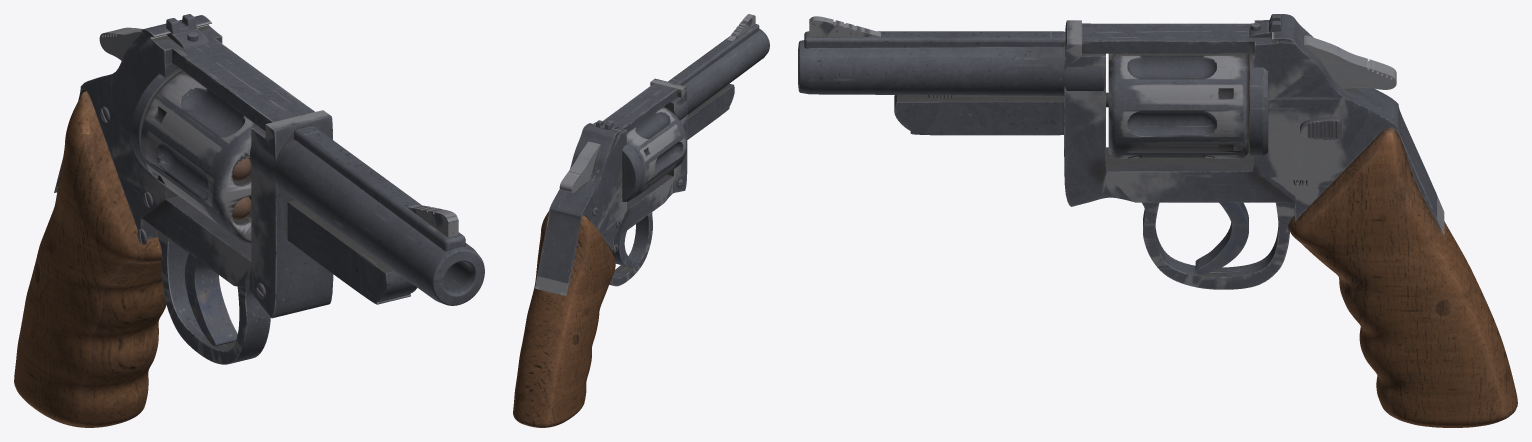
The model's file is revolver.glb.
3 renders of one model, left to right at view 1: azimuth 30°, elevation 25°; view 2: azimuth 150°, elevation 25°; view 3: azimuth 270°, elevation 25°, orthographic. The views are drawn at different scales.
Parts seen in each view (by area): view 1: body, moving, hammer; view 2: body, moving, hammer; view 3: body, moving, hammer.
Boxes of the visible parts, <box> form: body: <box>14,14,484,427</box>; moving: <box>141,71,258,243</box>; hammer: <box>99,27,142,60</box>; body: <box>513,14,769,427</box>; moving: <box>626,107,687,199</box>; hammer: <box>559,141,600,192</box>; body: <box>798,14,1517,427</box>; moving: <box>928,53,1249,158</box>; hammer: <box>1304,35,1396,89</box>.
Size of the model in its own units: 0.039 by 0.1474 by 0.2396.
4 materials, 4 textured.
